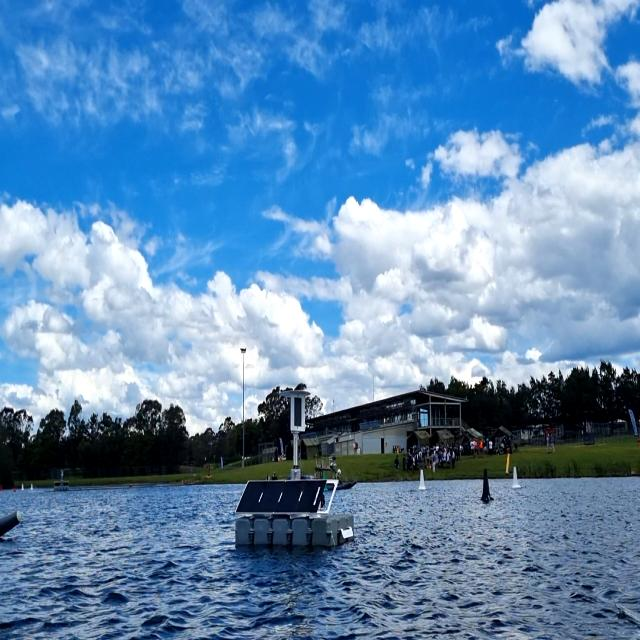led: (292, 395, 304, 430)
